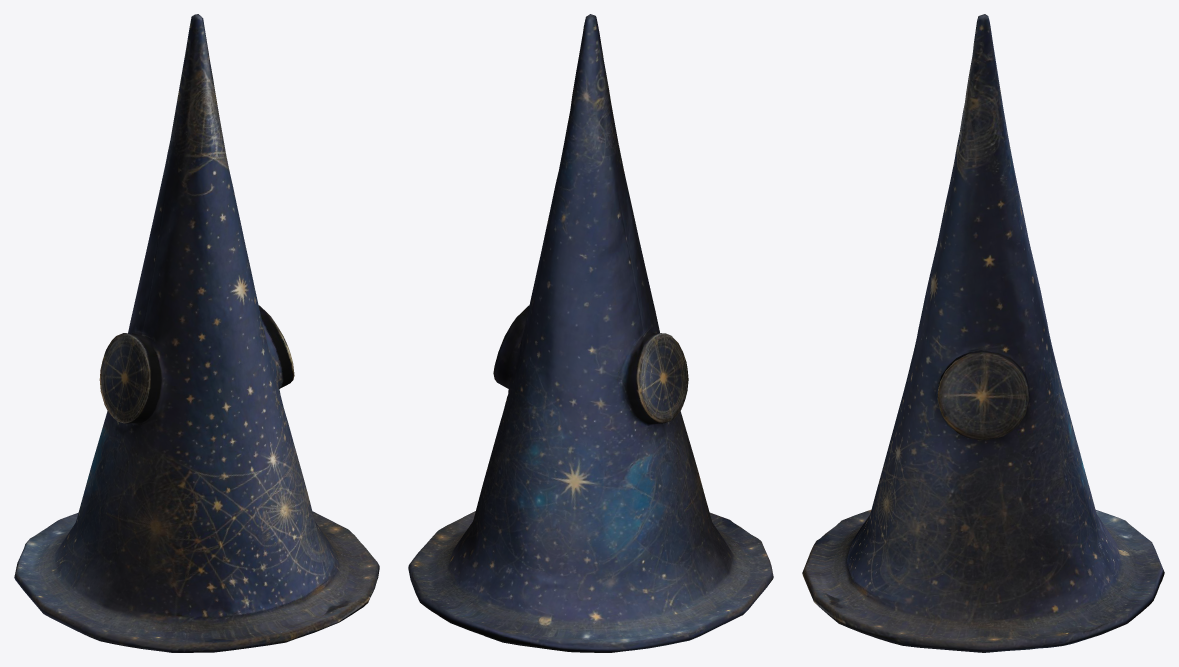
The picture shows the model from 3 angles, left to right: view 1: azimuth 30°, elevation 25°; view 2: azimuth 150°, elevation 25°; view 3: azimuth 270°, elevation 25°; orthographic projection.
Parts seen in each view (by area): view 1: Mesh1; view 2: Mesh1; view 3: Mesh1.
Boxes of the visible parts, box(x1,y1,x2,y2) form: Mesh1: box(14, 14, 379, 652); Mesh1: box(408, 14, 773, 652); Mesh1: box(802, 14, 1164, 652).
Bounding box in the file's own units: 115 × 200 × 117.
1 material, 1 textured.
